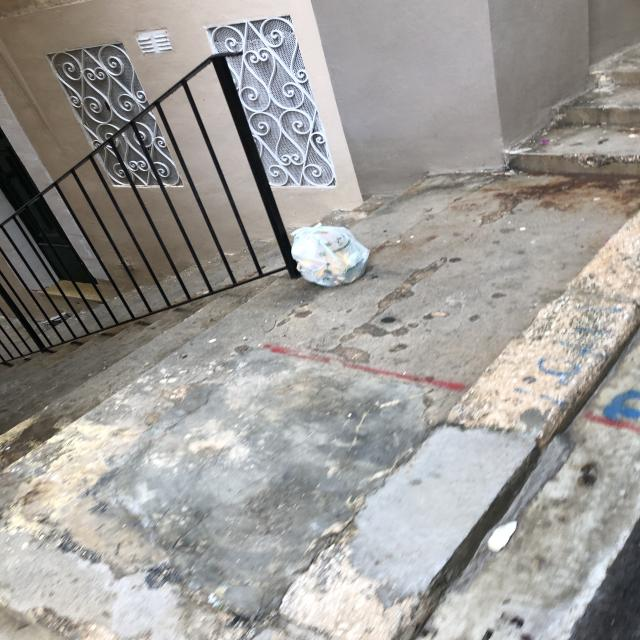Organic Waste -White Bag-: (283, 221, 374, 290)
